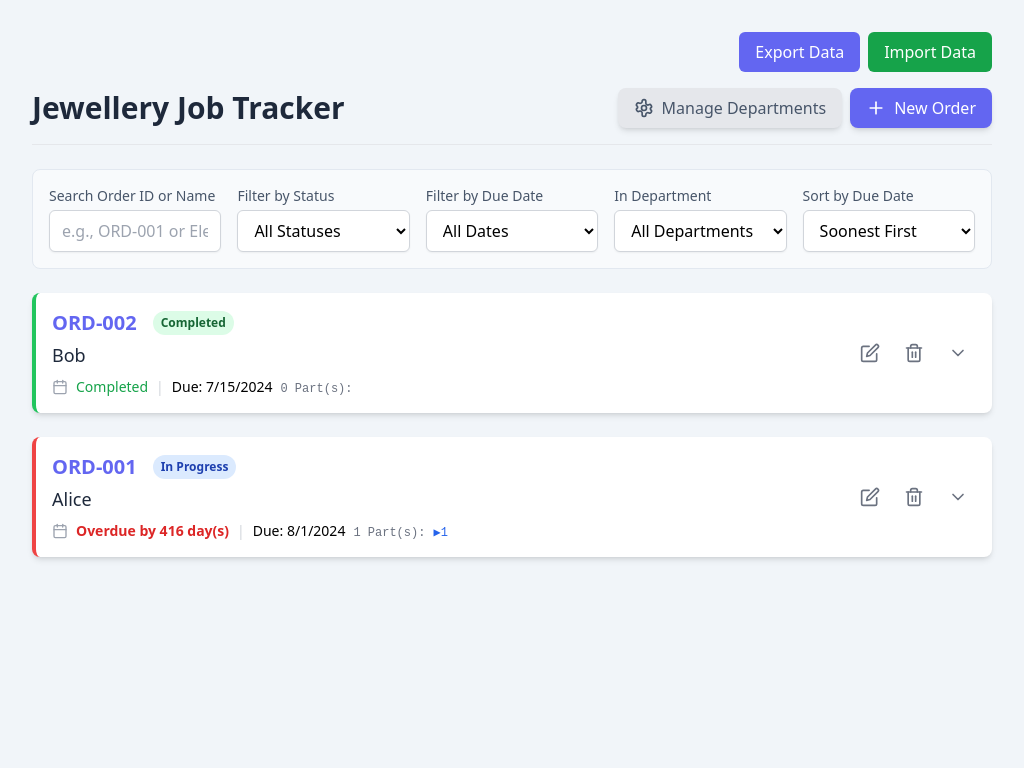
Test: Dashboard › opens new order modal on button click
Click the button "New Order" at [921, 108], box [850,88,992,128]
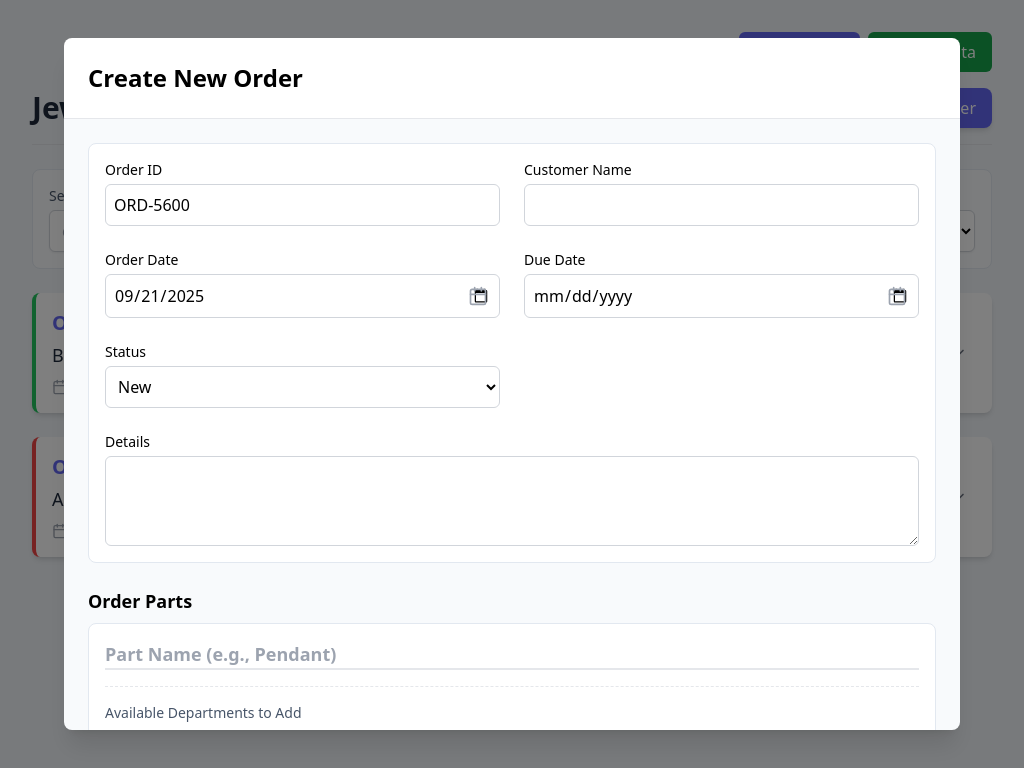
Expected: the heading "Create New Order" is shown, [88,61,303,94]
